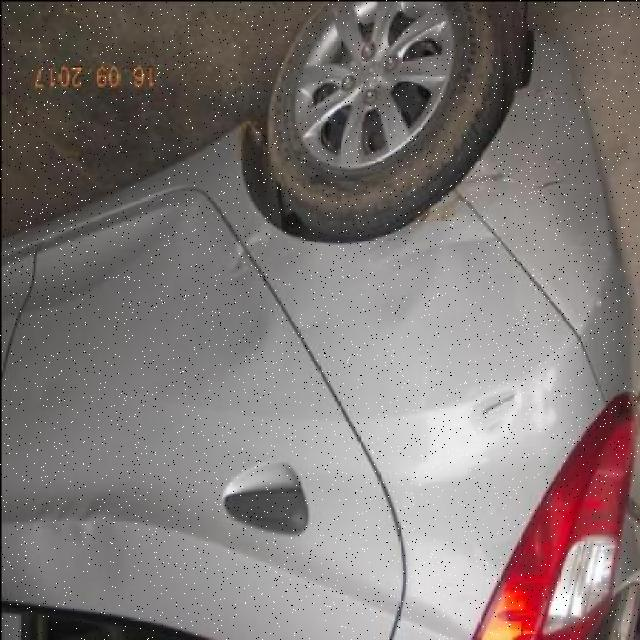damage: (217, 218, 303, 290), (371, 228, 501, 262), (24, 489, 103, 537), (469, 382, 522, 433), (409, 192, 467, 226), (470, 169, 514, 192), (527, 176, 561, 193)
